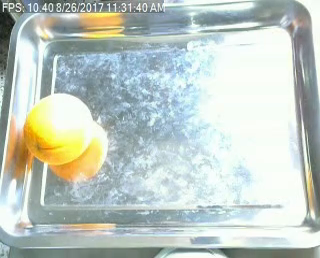Orange: (23, 92, 92, 167)
